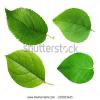Apple leaf: (5, 5, 56, 48), (3, 51, 54, 94), (51, 6, 99, 45)
